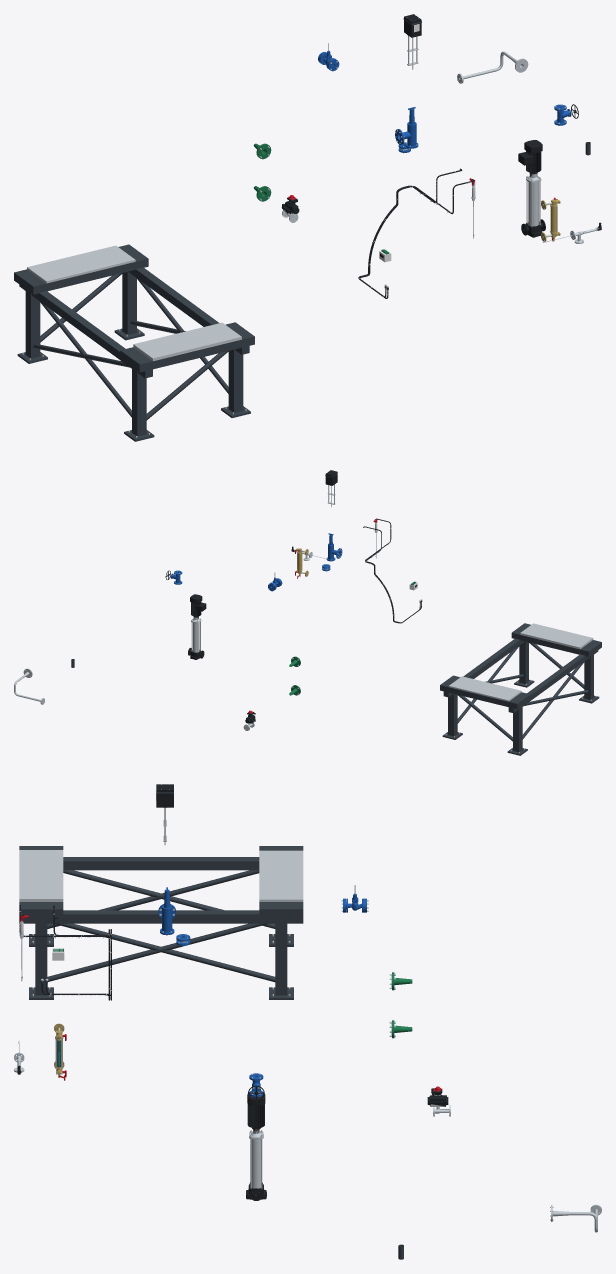
The picture shows the model from 3 angles, top to bottom: view 1: azimuth 30°, elevation 25°; view 2: azimuth 150°, elevation 25°; view 3: azimuth 270°, elevation 25°; orthographic projection. The views are drawn at different scales.
Visible parts, largest first — view 1: deaerator_support / dark, deaerator_support / steel, pump_2 CAD solid 15; view 2: deaerator_support / dark, deaerator_support / steel; view 3: deaerator_support / dark, deaerator_support / steel.
Boxes of the visible parts, <box> form: deaerator_support / dark: <box>14,244,254,441</box>; deaerator_support / steel: <box>22,245,246,437</box>; pump_2 CAD solid 15: <box>518,140,542,173</box>; deaerator_support / dark: <box>440,623,601,755</box>; deaerator_support / steel: <box>445,623,596,753</box>; deaerator_support / dark: <box>19,846,303,999</box>; deaerator_support / steel: <box>19,850,303,996</box>.
Bounding box in the file's own units: 8.14 × 3.71 × 5.88.
